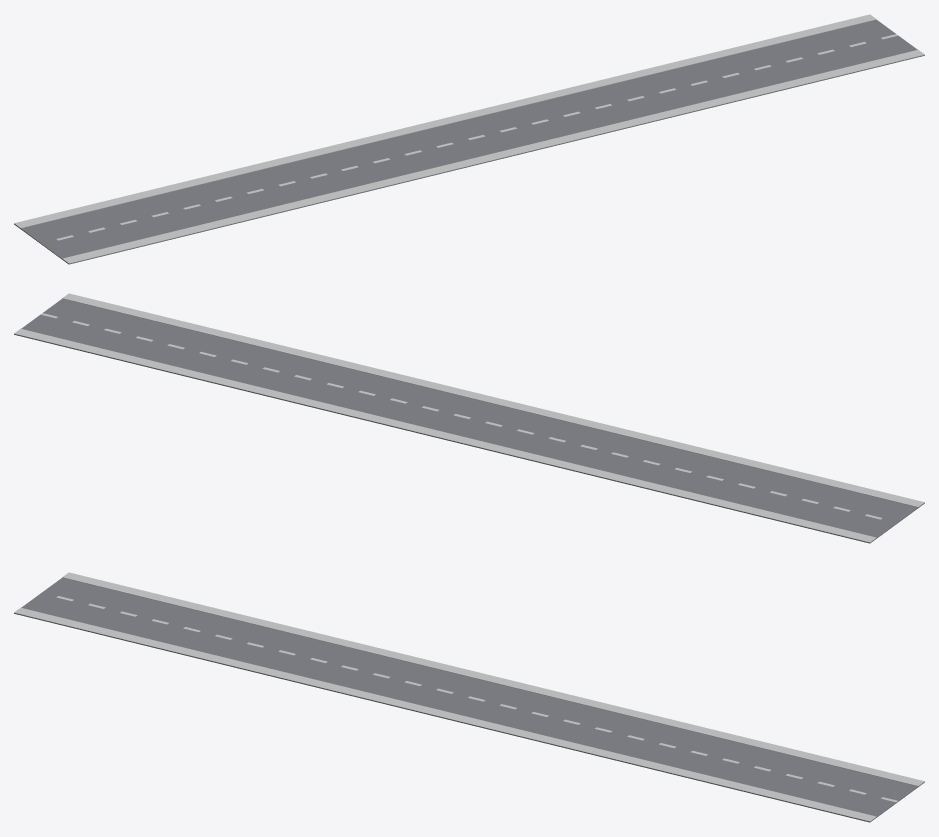
The model's file is Road_Straight.fbx.
The picture shows the model from 3 angles, top to bottom: view 1: azimuth 30°, elevation 25°; view 2: azimuth 150°, elevation 25°; view 3: azimuth 330°, elevation 25°; orthographic projection.
Parts seen in each view (by area): view 1: Road_Straight; view 2: Road_Straight; view 3: Road_Straight.
Boxes of the visible parts, x1=… form: Road_Straight: x1=14, y1=14, x2=924, y2=264; Road_Straight: x1=14, y1=293, x2=924, y2=543; Road_Straight: x1=14, y1=572, x2=924, y2=822.
Size of the model in its own units: 16390 by 21.12 by 1821.
